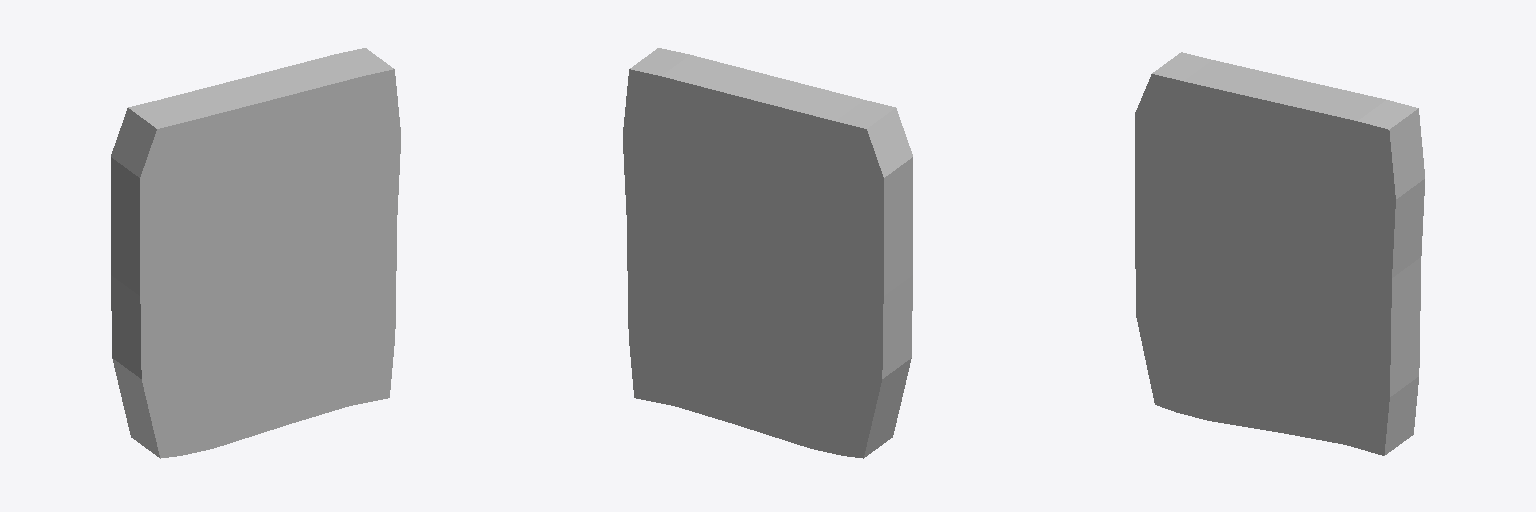
Rendered from labxf.obj.
The picture shows the model from 3 angles: view 1: azimuth 30°, elevation 25°; view 2: azimuth 150°, elevation 25°; view 3: azimuth 330°, elevation 25°; orthographic projection.
Parts seen in each view (by area): view 1: outside, living_room, kitchen, dining_room, bedroom, bathroom, door; view 2: outside, living_room, kitchen, dining_room, bedroom, bathroom, door; view 3: outside, living_room, kitchen, dining_room, bedroom, bathroom, door.
Boxes of the visible parts, x1,y1,x2,y2 form: outside: [111, 48, 400, 458]; living_room: [173, 152, 263, 287]; kitchen: [219, 234, 296, 375]; dining_room: [296, 229, 356, 359]; bedroom: [297, 131, 360, 233]; bathroom: [260, 144, 299, 240]; door: [187, 278, 222, 382]; outside: [623, 48, 912, 458]; living_room: [760, 152, 850, 287]; kitchen: [727, 234, 804, 375]; dining_room: [667, 229, 727, 359]; bedroom: [663, 131, 726, 233]; bathroom: [724, 144, 763, 240]; door: [801, 278, 836, 382]; outside: [1135, 52, 1424, 455]; living_room: [1168, 129, 1257, 264]; kitchen: [1213, 236, 1291, 371]; dining_room: [1290, 247, 1351, 388]; bedroom: [1292, 158, 1355, 268]; bathroom: [1255, 149, 1293, 246]; door: [1182, 249, 1217, 349].
Bounding box in the file's own units: 10.29 × 12.64 × 2.01.